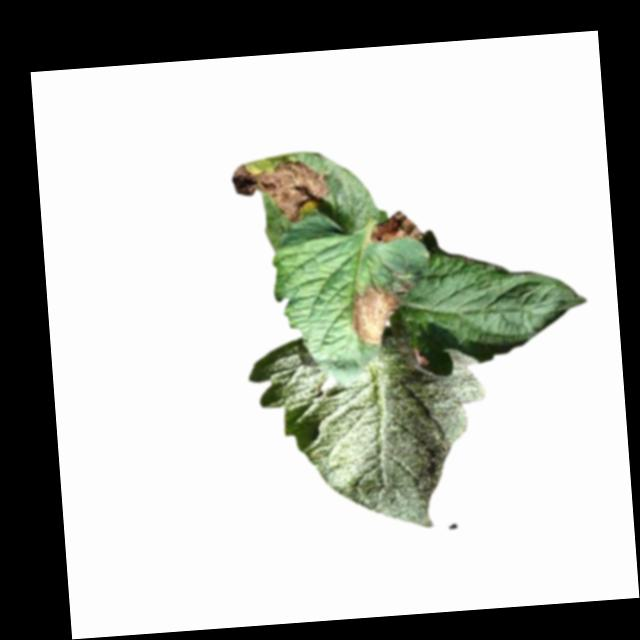Late_blight: (230, 148, 334, 231), (350, 282, 414, 350), (369, 209, 427, 246)
healthy: (246, 325, 497, 544)
